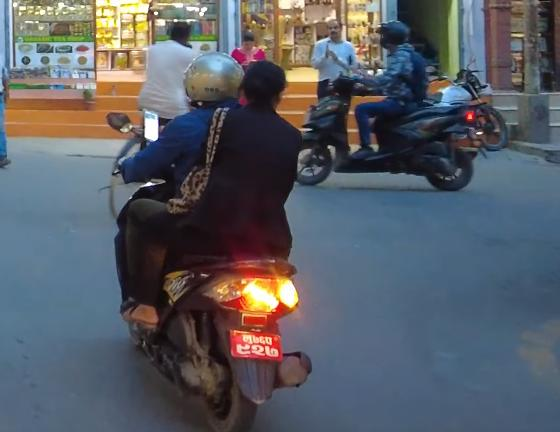scooter: (90, 109, 317, 432), (293, 68, 480, 202)
